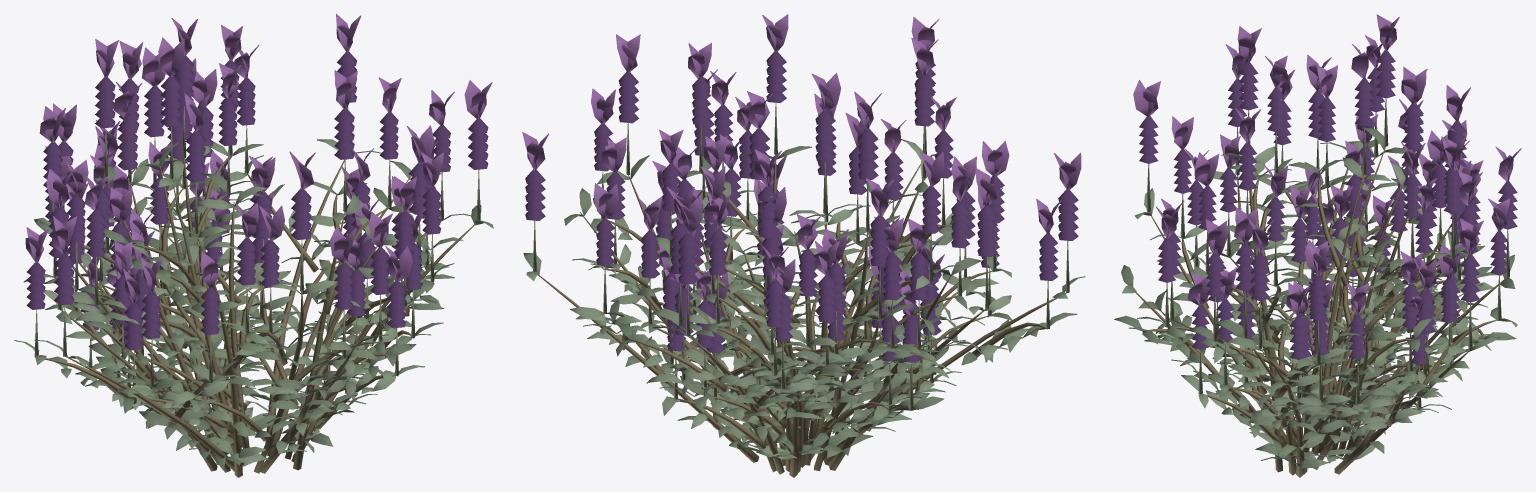
Rendered from Lavande_Jeune_LOD0.fbx.
3 views of the same model, side by side, from view 1: azimuth 30°, elevation 25°; view 2: azimuth 150°, elevation 25°; view 3: azimuth 270°, elevation 25° (orthographic). The views are drawn at different scales.
Parts seen in each view (by area): view 1: Lavande_Jeune; view 2: Lavande_Jeune; view 3: Lavande_Jeune.
Part boxes in pixels (<box>): Lavande_Jeune: <box>14,14,493,477</box>; Lavande_Jeune: <box>522,14,1085,477</box>; Lavande_Jeune: <box>1114,14,1521,477</box>.
Bounding box in the file's own units: 45.75 × 39.81 × 37.42.
